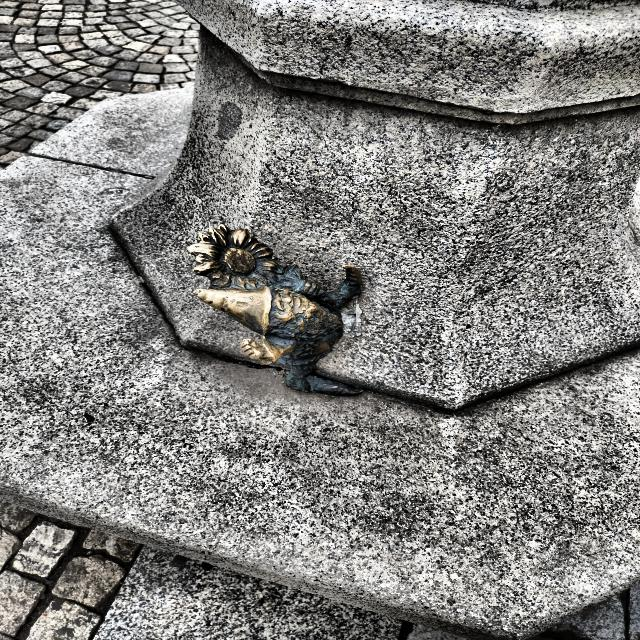Zyczliwek: (188, 225, 362, 395)
